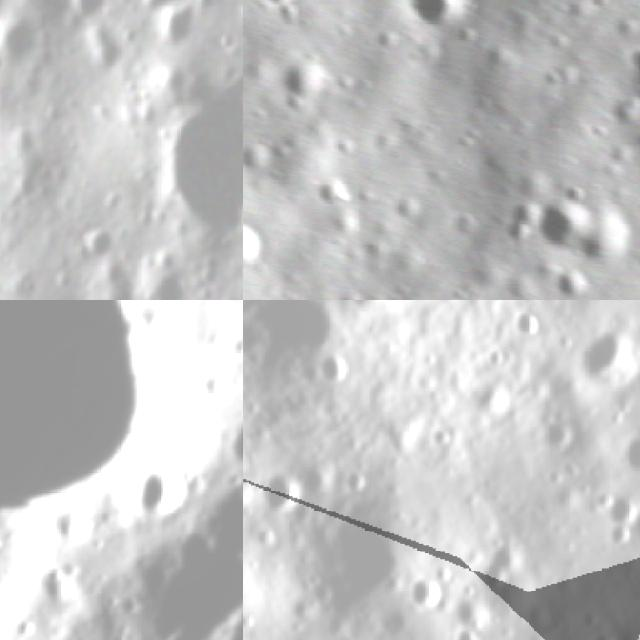crater: (0, 300, 243, 640), (284, 487, 429, 638), (107, 521, 243, 640), (147, 81, 243, 243), (243, 300, 351, 368), (520, 178, 600, 259), (121, 453, 196, 529), (186, 471, 243, 571), (570, 198, 638, 277), (567, 322, 640, 392), (268, 39, 341, 107), (466, 528, 530, 604), (286, 449, 341, 505), (250, 460, 303, 518), (243, 206, 280, 286), (26, 546, 79, 600), (390, 0, 473, 34), (39, 499, 92, 551), (402, 565, 449, 620), (308, 164, 359, 211), (158, 0, 203, 53), (310, 346, 356, 392), (212, 412, 243, 479), (600, 484, 640, 530), (547, 265, 596, 300), (145, 263, 188, 300), (80, 224, 117, 266), (510, 303, 550, 340), (617, 30, 640, 84), (69, 0, 105, 33), (246, 0, 315, 16), (620, 423, 640, 478), (448, 623, 485, 640), (243, 469, 253, 515)
